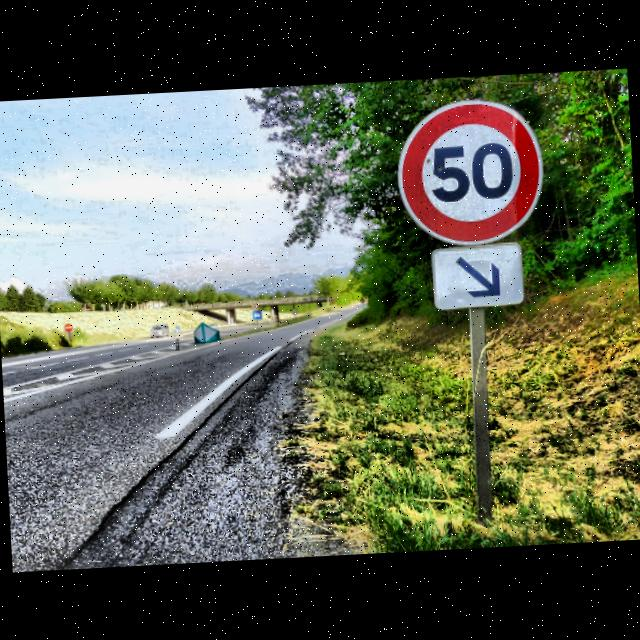speed_50: (391, 92, 548, 245)
